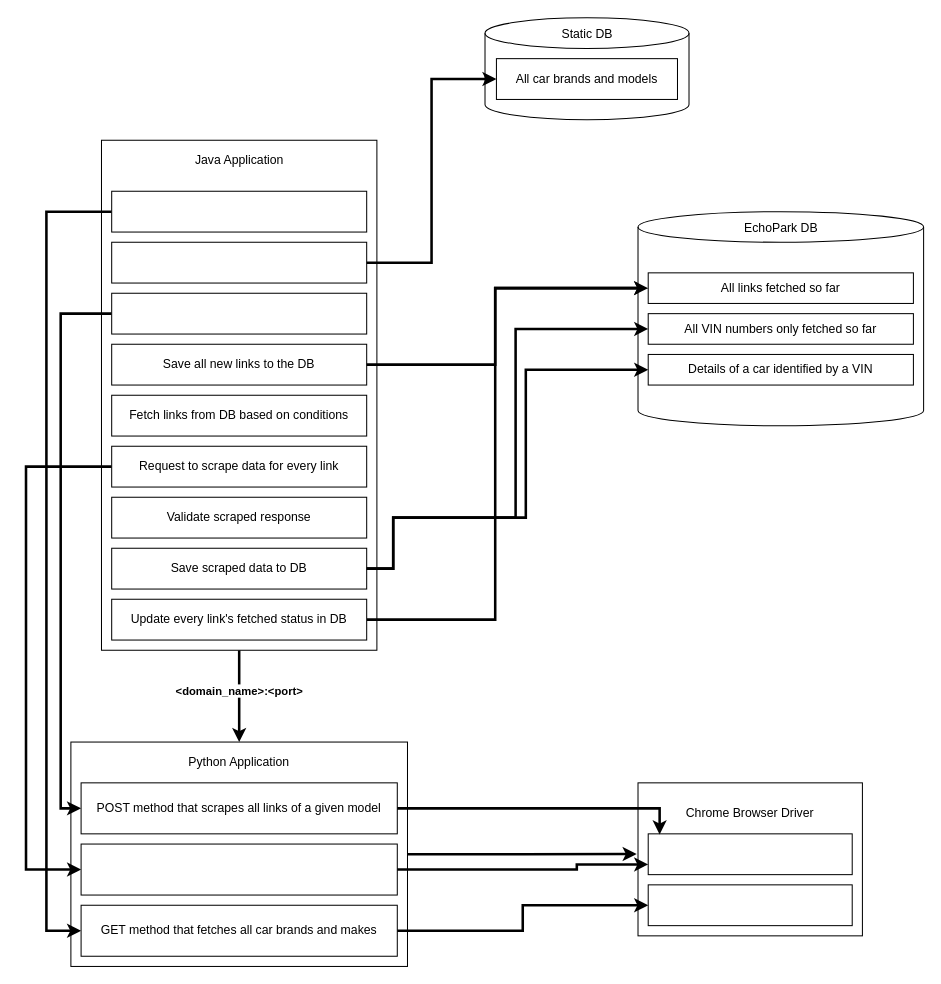
Image size: 941x984. Some labels were removed from this diagram. Each missing label, with the centre of its shape:
"POST method that scrapes full details from a car link" belongs at (x=238, y=869).
"Request all car brands and models" belongs at (x=239, y=211).
"Request to get all links of a car model" belongs at (x=239, y=313).
"Save all static brands data to DB" belongs at (x=239, y=262).
"some website" belongs at (x=749, y=905).
"www.echopark.com" belongs at (x=749, y=854).
